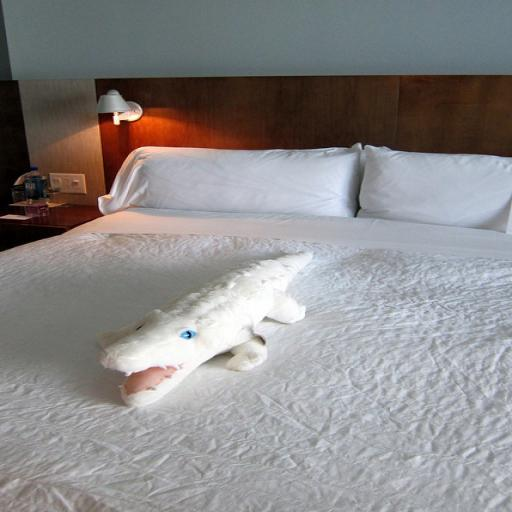bed: (15, 72, 512, 512)
